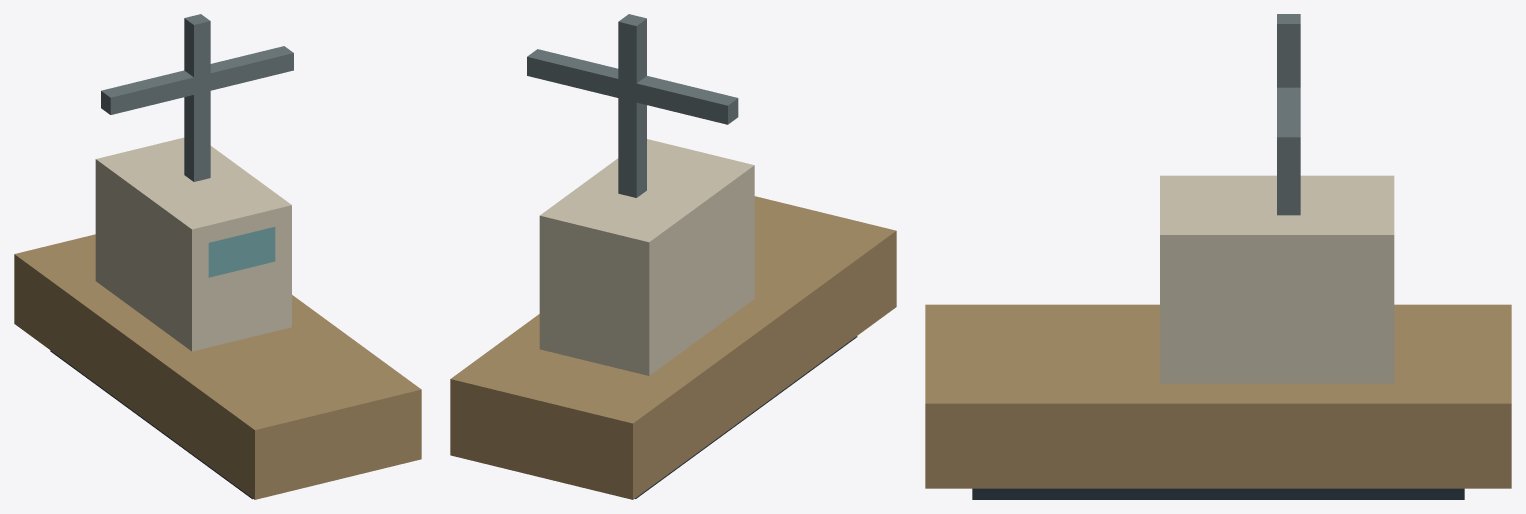
The model's file is logistics-17.glb.
3 views of the same model, side by side, from view 1: azimuth 30°, elevation 25°; view 2: azimuth 150°, elevation 25°; view 3: azimuth 270°, elevation 25° (orthographic). The views are drawn at different scales.
Visible parts, largest first — view 1: Cargo ship; view 2: Cargo ship; view 3: Cargo ship.
Part boxes in pixels (left/top/right/bottom): Cargo ship: left=14, top=14, right=421, bottom=499; Cargo ship: left=450, top=14, right=896, bottom=499; Cargo ship: left=925, top=14, right=1511, bottom=499.
Size of the model in its own units: 0.88 by 1.68 by 2.
